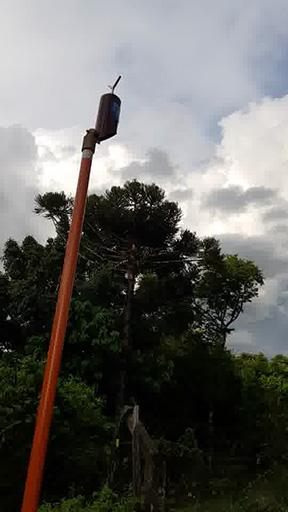Detector_Tensao_Contato: (92, 74, 123, 144)
Vara_Manobra: (23, 137, 95, 512)
